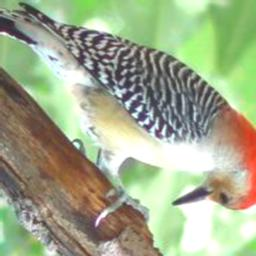Woodpecker: (0, 0, 256, 230)
